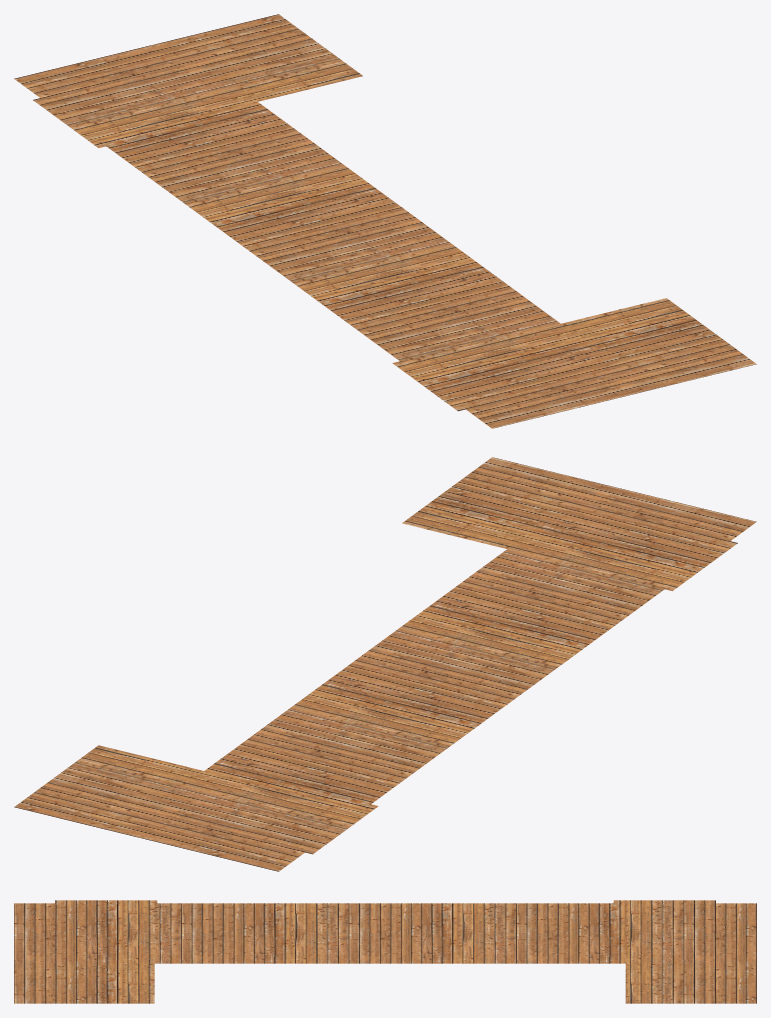
Rendered from BUILDING_stairwellFloorBottomAccess_02.FBX.
3 views of the same model, one above another, from view 1: azimuth 30°, elevation 25°; view 2: azimuth 150°, elevation 25°; view 3: azimuth 270°, elevation 25° (orthographic). The views are drawn at different scales.
Parts seen in each view (by area): view 1: BUILDING_stairwellFloorBottomAccess_02; view 2: BUILDING_stairwellFloorBottomAccess_02; view 3: BUILDING_stairwellFloorBottomAccess_02.
Boxes of the visible parts, box(x1,y1,x2,y2) form: BUILDING_stairwellFloorBottomAccess_02: box(14, 14, 756, 428); BUILDING_stairwellFloorBottomAccess_02: box(14, 457, 756, 871); BUILDING_stairwellFloorBottomAccess_02: box(14, 900, 756, 1003).
Bounding box in the file's own units: 4.38 × 8.88e-16 × 13.31.
Materials: 1 (1 with a texture image).
